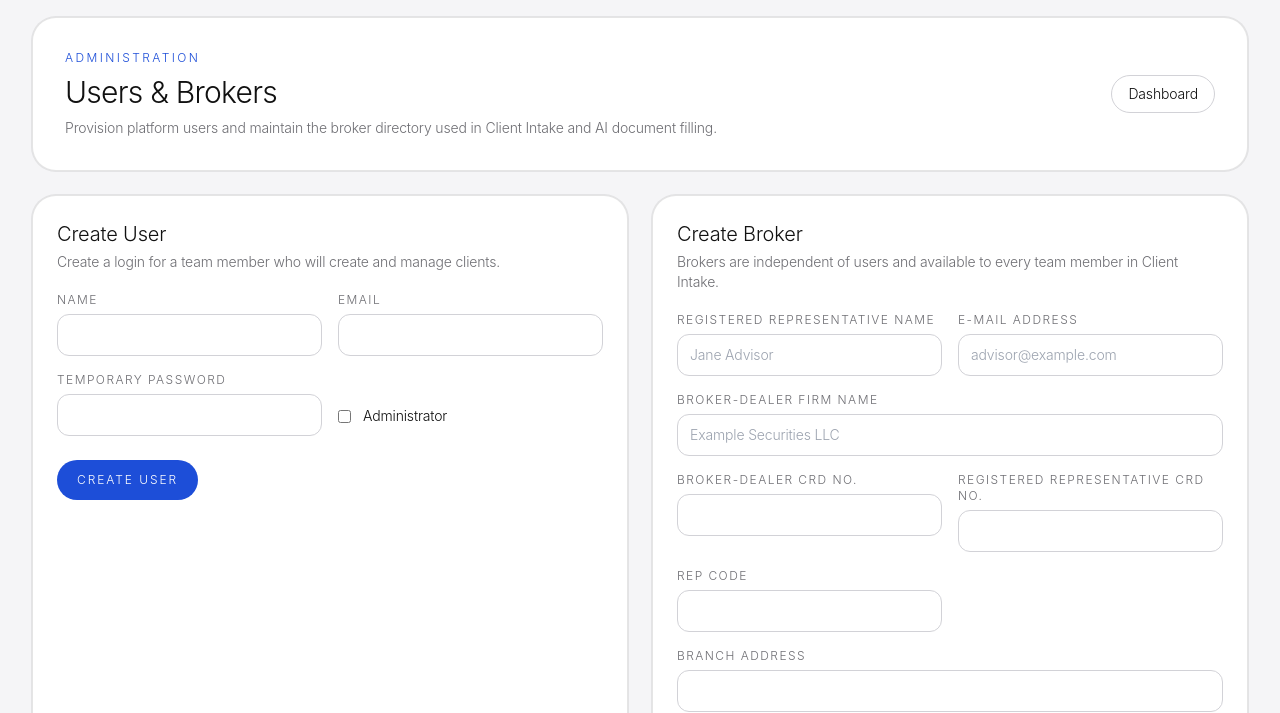
Test: AdminUsersPage broker fields › creates a broker with a Rep Code distinct from the representative CRD number
Expected: the heading "Create Broker" is shown, top-left (677, 222), bottom-right (803, 246)
Type "Matt Chancey" into the field labelled "Registered Representative Name". click: (810,355)
box: top-left (677, 334), bottom-right (942, 376)
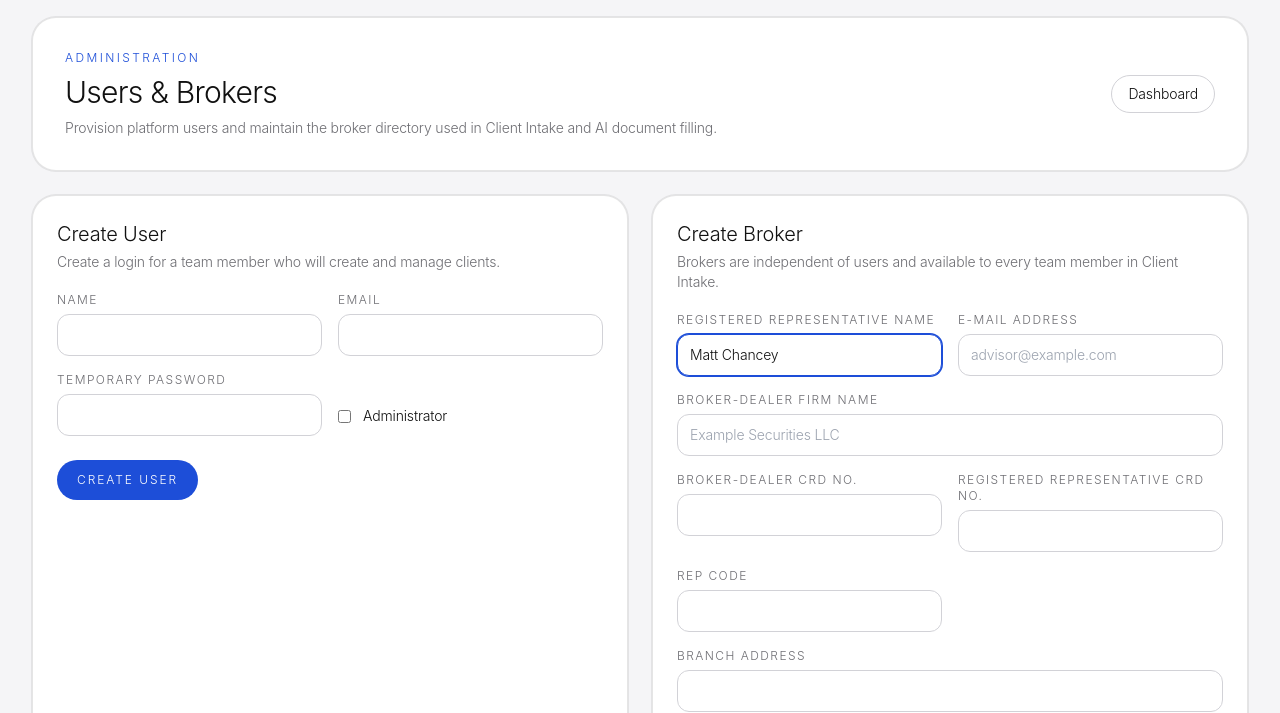
Type "matt@example.com" into the field labelled "E-mail Address". click: (1090,355)
box: top-left (958, 334), bottom-right (1223, 376)
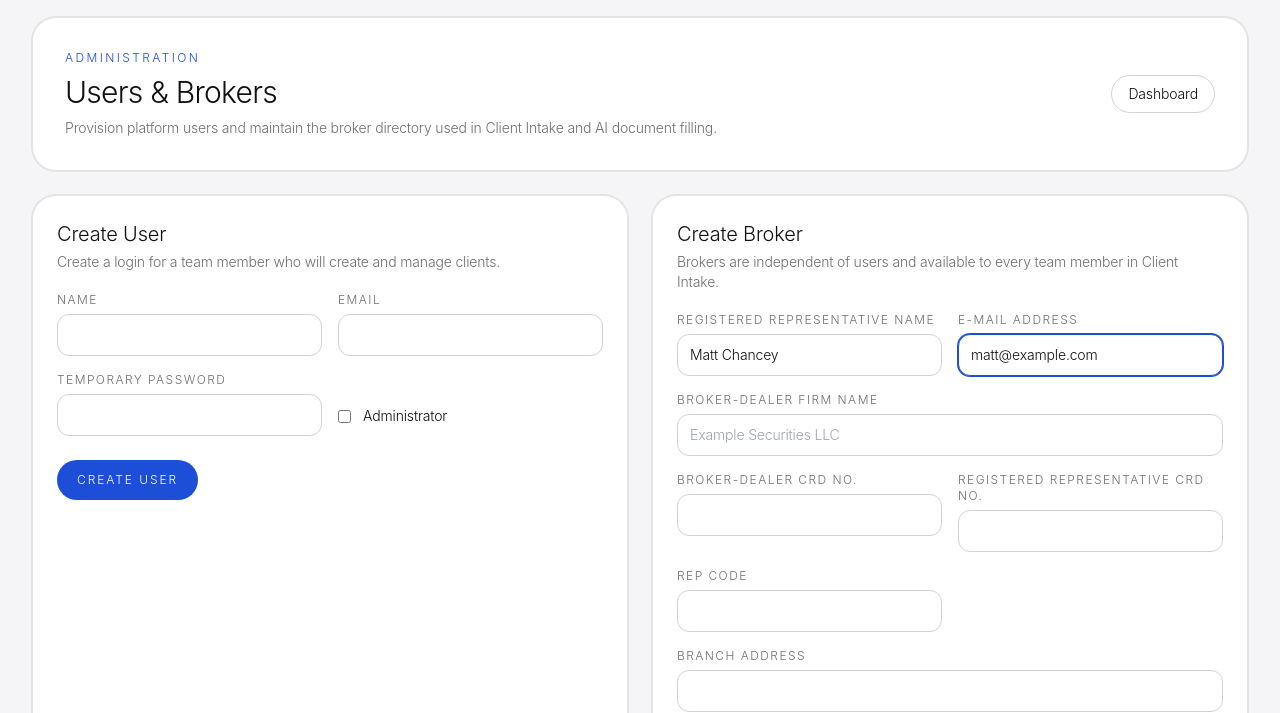
Type "Crescent Securities Inc." into the field labelled "Broker-Dealer Firm Name". click: (950,435)
box: top-left (677, 414), bottom-right (1223, 456)
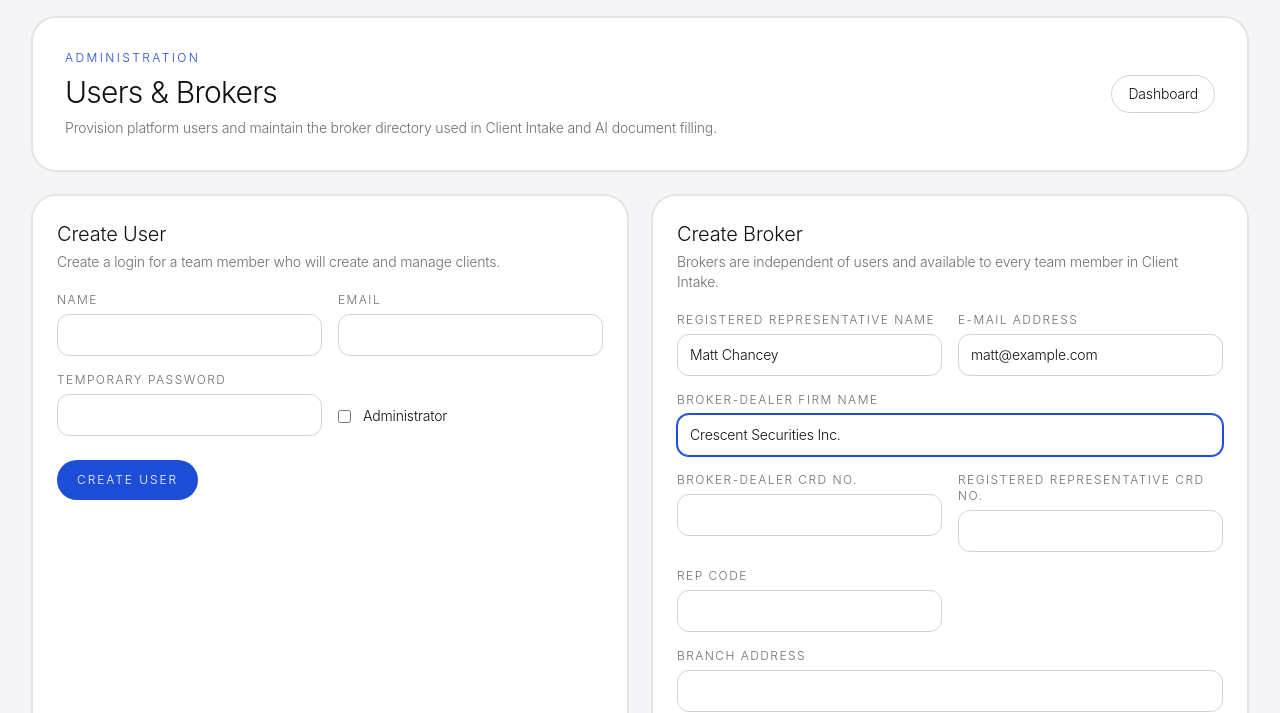
Type "5645874" into the field labelled "Registered Representative CRD No.". click: (1090,531)
box: top-left (958, 510), bottom-right (1223, 552)
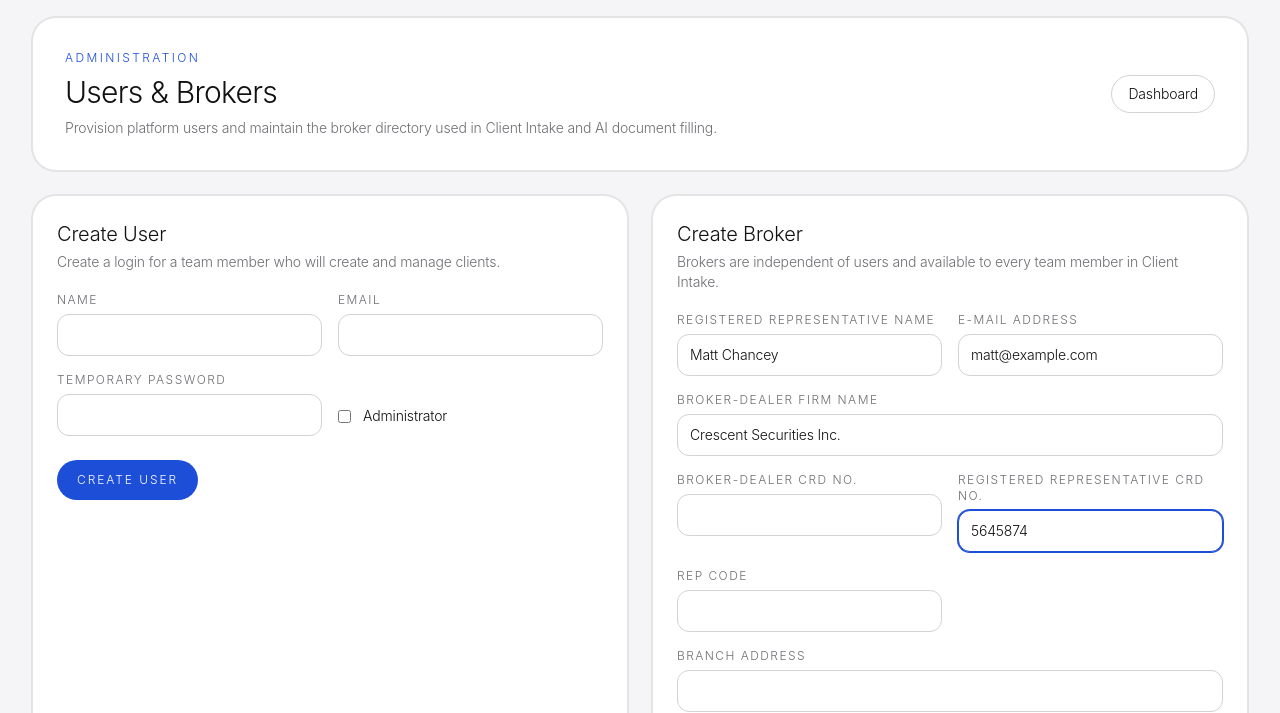
Type "MC-123" into the field labelled "Rep Code". click: (810,611)
box: top-left (677, 590), bottom-right (942, 632)
(page scrolled)
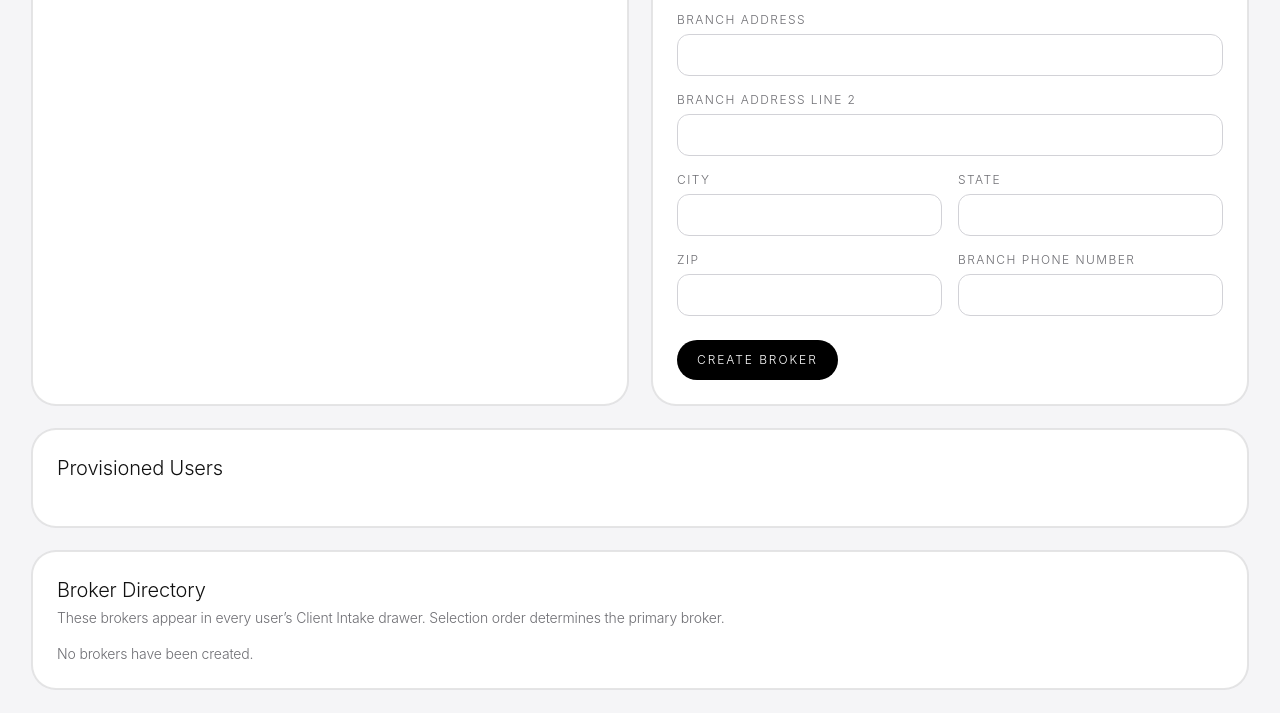
Click the button "Create Broker". click: (757,360)
box: top-left (677, 340), bottom-right (838, 380)
(page scrolled)
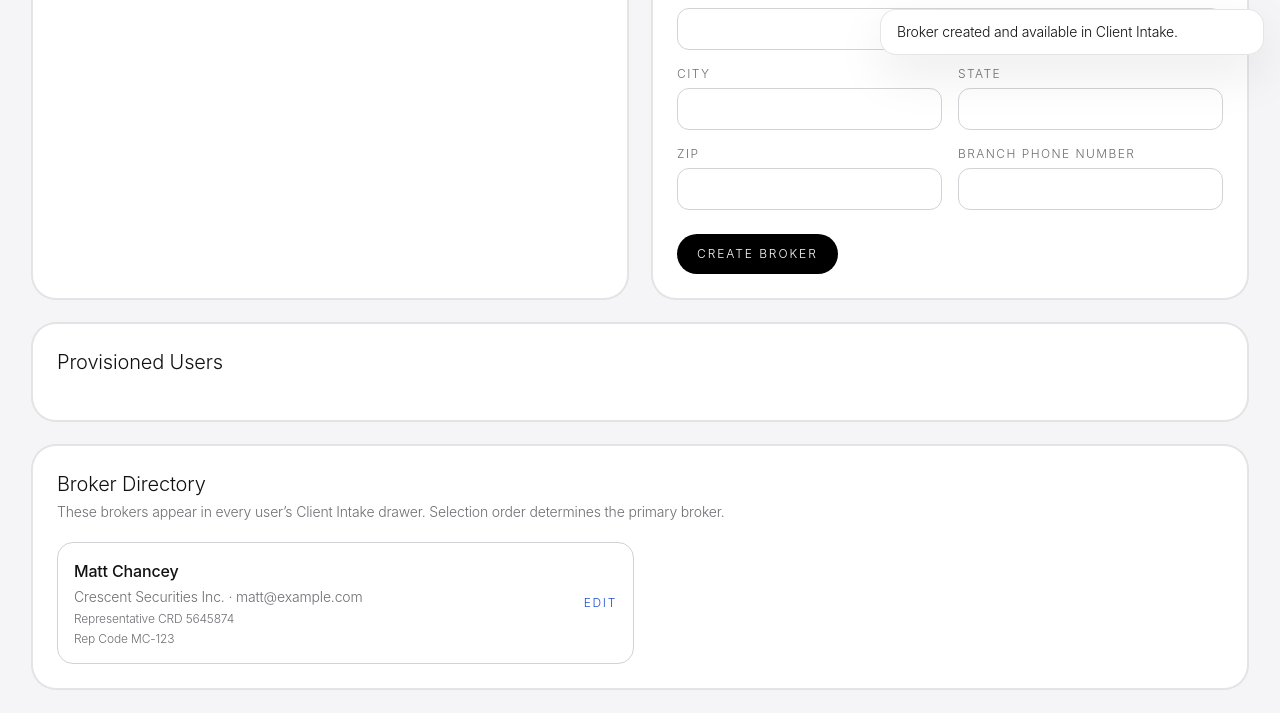
Expected: the text "Rep Code MC-123" is shown, top-left (74, 631), bottom-right (174, 646)
